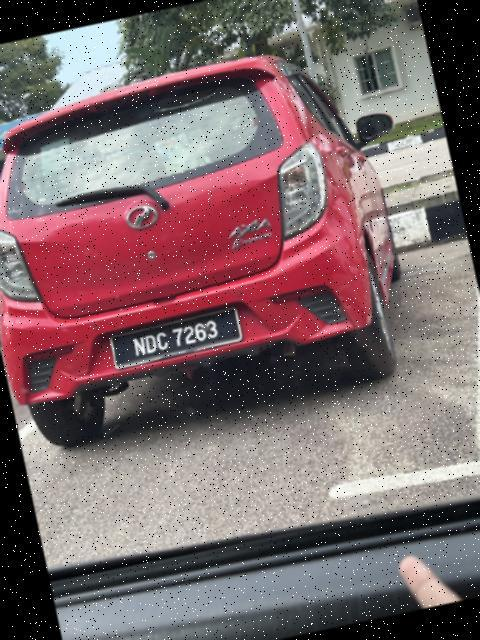License_Plate: (107, 306, 247, 369)
NDC7263: (107, 306, 247, 369)
car: (1, 25, 450, 454)
